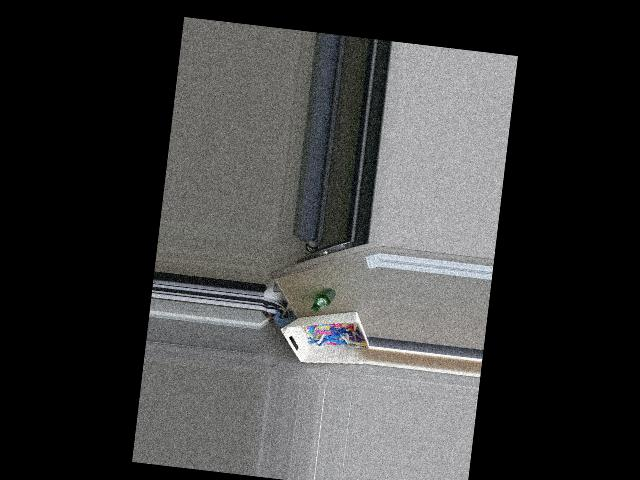beer: (310, 285, 335, 312)
